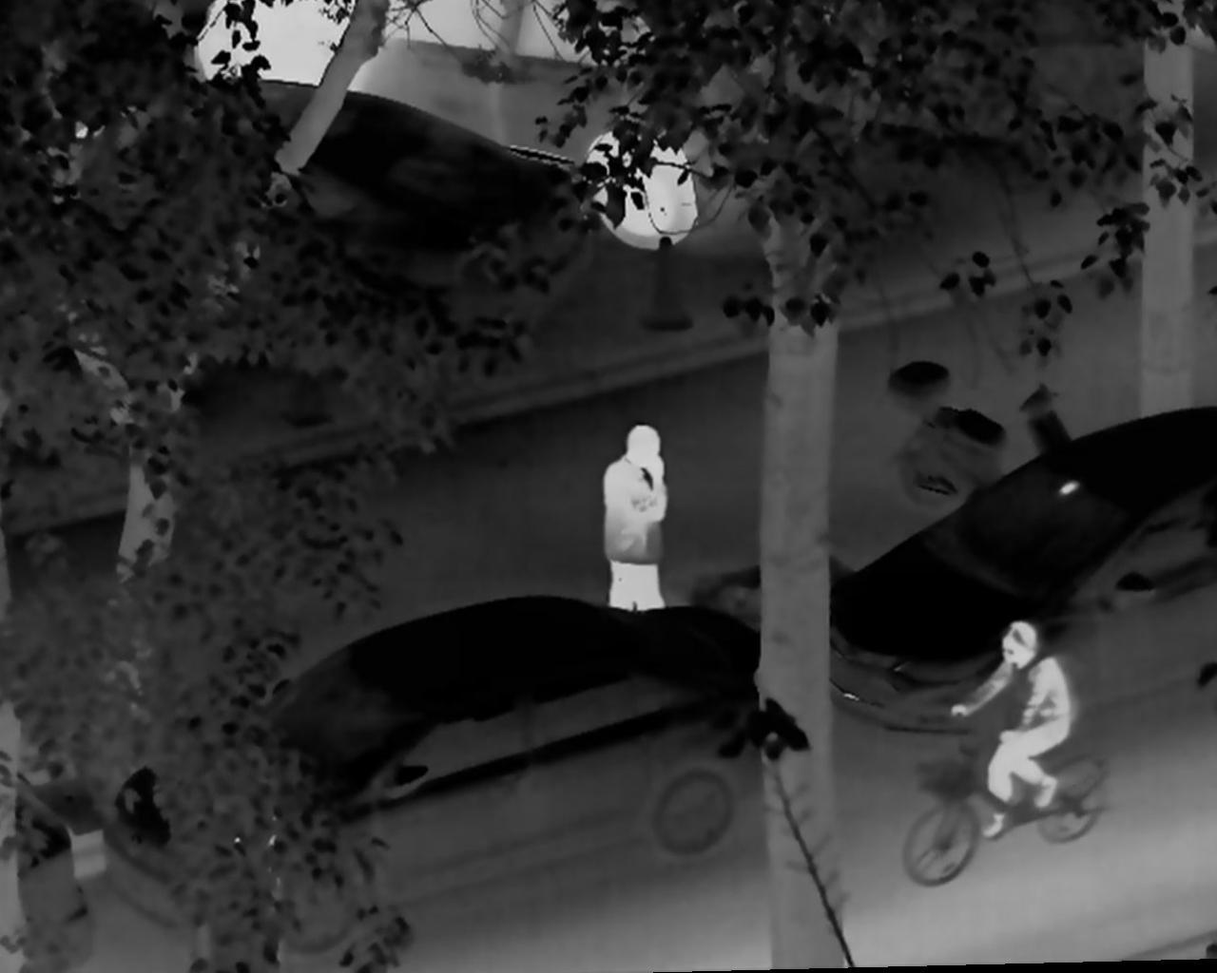person: (948, 615, 1070, 840), (589, 426, 671, 620)
